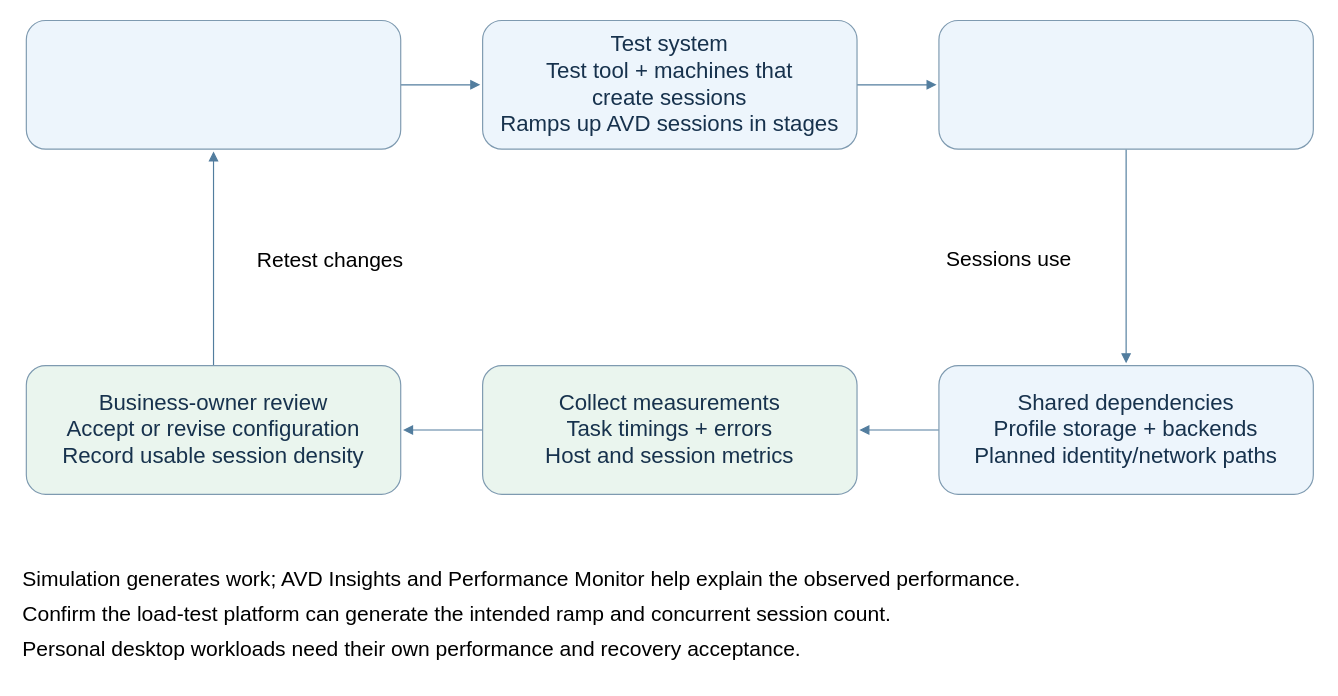
This 1338x696 diagram has some shape labels left out. The shapes that lost their labels are listed below. From the top down, each one's centre as x and y in pixels, then its label:
At point (213, 84): "Agreed test plan Persona tasks + test accounts Acceptance targets".
At point (1125, 84): "Representative host pool Image + business applications Candidate VM and OS disk".
